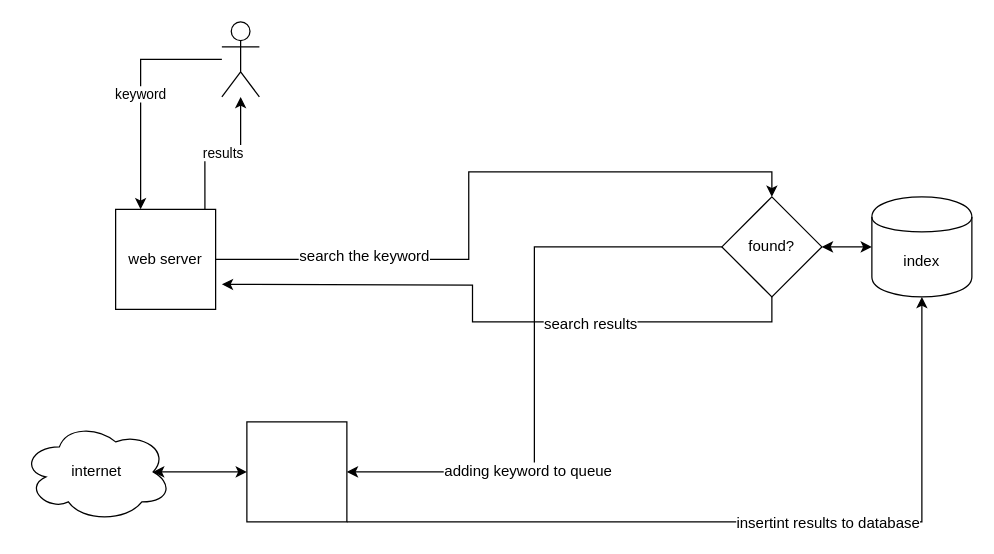
The diagram is 994 pixels wide and 554 high, and some of its shapes have lost their labels. The centre of each missing label's shape, as x and y in pixels:
"Actor" belongs at point 240,59.
"web crawler" belongs at point 296,471.
